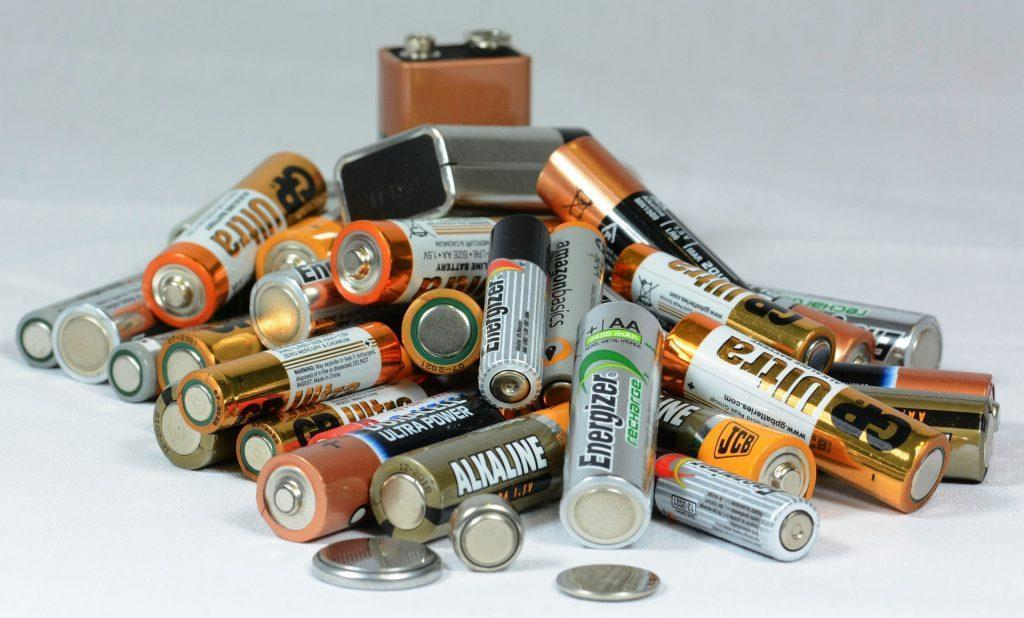AA: (655, 305, 957, 518), (138, 147, 333, 330), (172, 317, 406, 439), (556, 299, 665, 557), (651, 445, 825, 563), (477, 212, 555, 414)
COIN: (308, 534, 448, 595), (447, 491, 527, 577), (551, 560, 666, 604)
